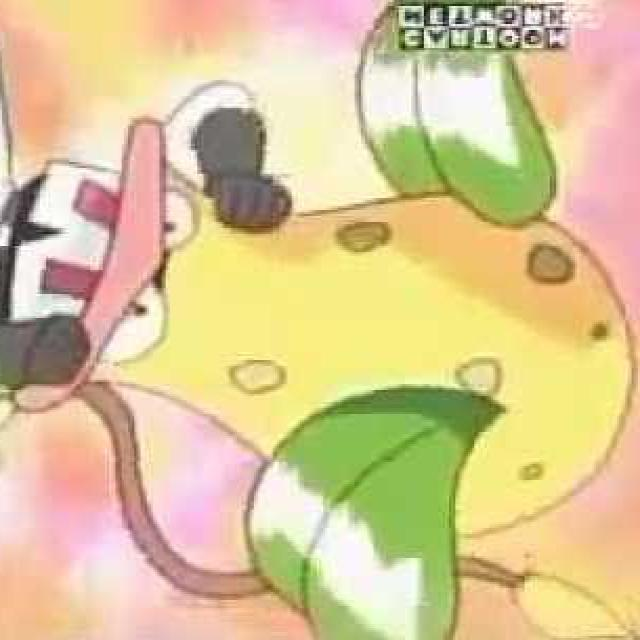Victreebel: (13, 169, 631, 534)
